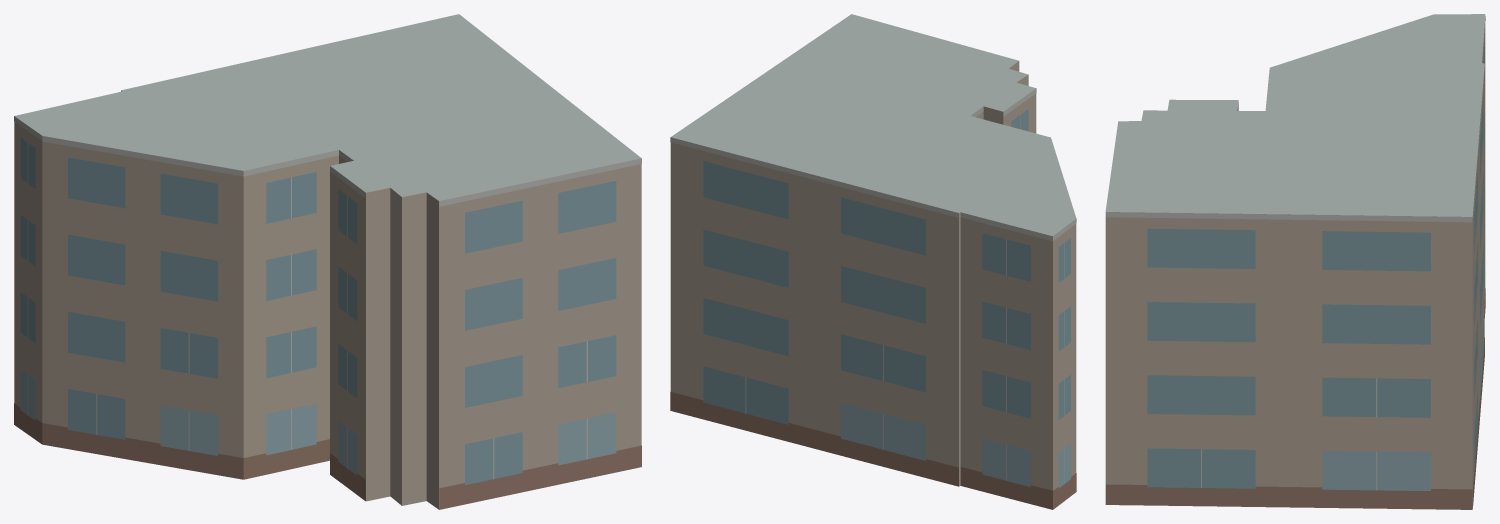
File: survey-upis-32661664.glb
The picture shows the model from 3 angles, left to right: view 1: azimuth 30°, elevation 25°; view 2: azimuth 150°, elevation 25°; view 3: azimuth 270°, elevation 25°; orthographic projection. The views are drawn at different scales.
Parts seen in each view (by area): view 1: survey-upis-32661664.tmp; view 2: survey-upis-32661664.tmp; view 3: survey-upis-32661664.tmp.
Part boxes in pixels (x1,y1,x2,y2): survey-upis-32661664.tmp: (14, 14, 641, 509); survey-upis-32661664.tmp: (670, 14, 1076, 509); survey-upis-32661664.tmp: (1105, 14, 1485, 509).
Bounding box in the file's own units: 19.92 × 13.4 × 15.76.
